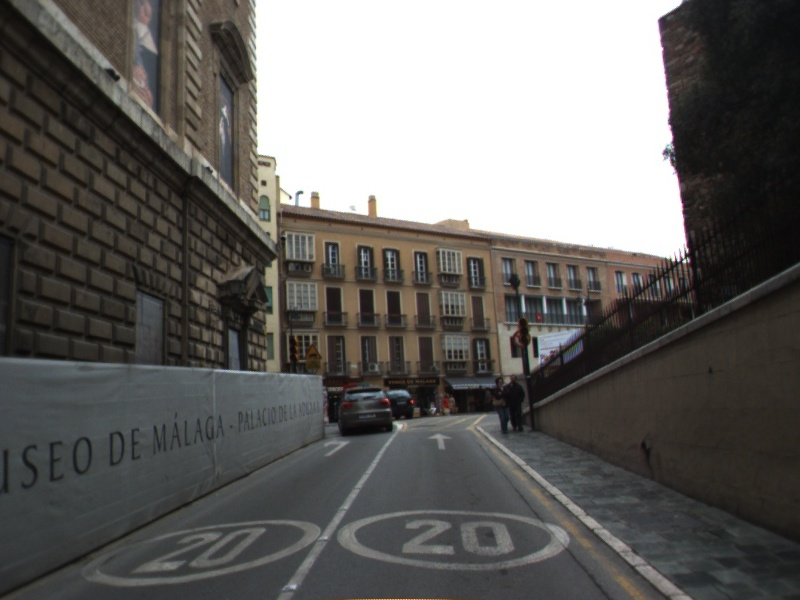LEFT: (321, 437, 353, 458)
STRAIGHT: (425, 431, 455, 452)
